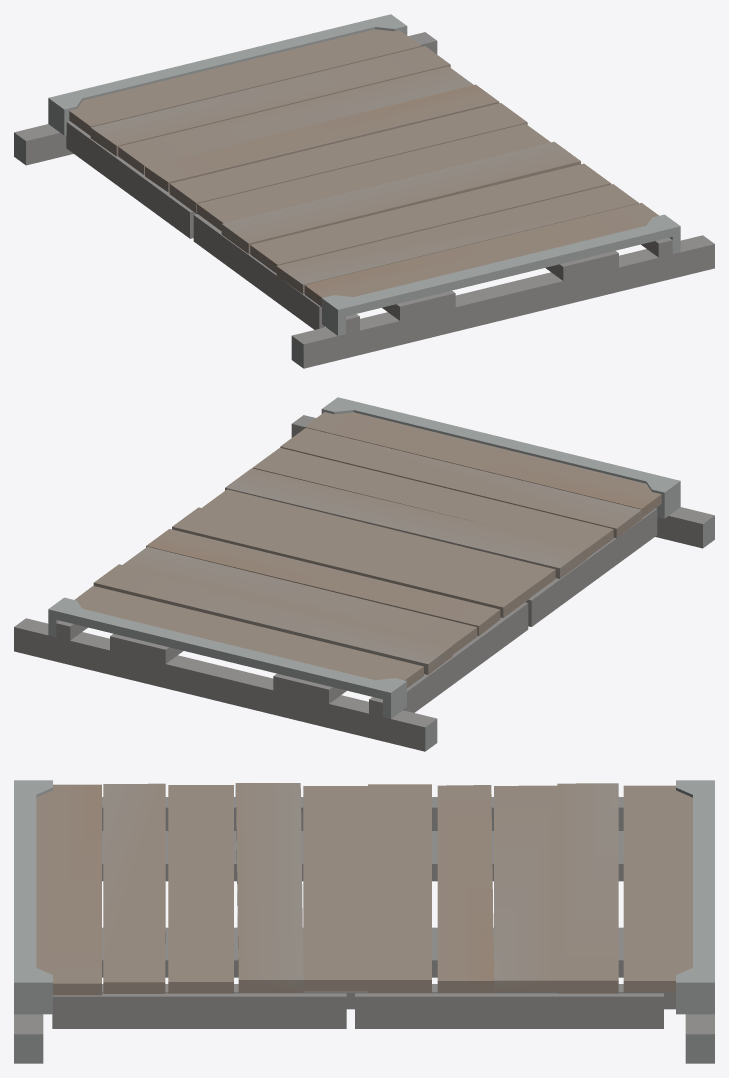
The picture shows the model from 3 angles, top to bottom: view 1: azimuth 30°, elevation 25°; view 2: azimuth 150°, elevation 25°; view 3: azimuth 270°, elevation 25°; orthographic projection. The views are drawn at different scales.
Visible parts, largest first — view 1: G:\FFXIV-MapTools\exports\s1f3\bg\ffxiv\sea_s1\fld\s1f3\bgpa (×3); view 2: G:\FFXIV-MapTools\exports\s1f3\bg\ffxiv\sea_s1\fld\s1f3\bgpa (×3); view 3: G:\FFXIV-MapTools\exports\s1f3\bg\ffxiv\sea_s1\fld\s1f3\bgpa (×3).
Boxes of the visible parts, x1,y1,x2,y2 form: G:\FFXIV-MapTools\exports\s1f3\bg\ffxiv\sea_s1\fld\s1f3\bgpa (×3): (14,14,714,368); G:\FFXIV-MapTools\exports\s1f3\bg\ffxiv\sea_s1\fld\s1f3\bgpa (×3): (14,397,714,751); G:\FFXIV-MapTools\exports\s1f3\bg\ffxiv\sea_s1\fld\s1f3\bgpa (×3): (14,780,714,1063).
Size of the model in its own units: 7.38 by 0.8652 by 9.
